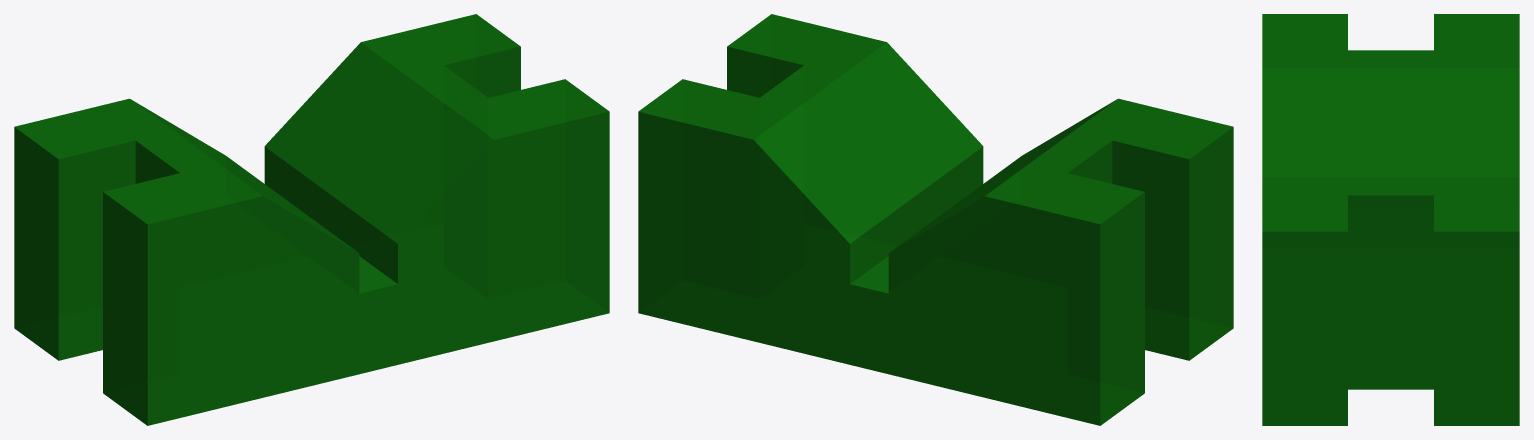
3 views of the same model, side by side, from view 1: azimuth 30°, elevation 25°; view 2: azimuth 150°, elevation 25°; view 3: azimuth 270°, elevation 25° (orthographic). The views are drawn at different scales.
Parts seen in each view (by area): view 1: SketchUp; view 2: SketchUp; view 3: SketchUp.
Part boxes in pixels (bbox=[...]): SketchUp: bbox=[14, 14, 609, 425]; SketchUp: bbox=[638, 14, 1233, 425]; SketchUp: bbox=[1262, 14, 1519, 425].
Size of the model in its own units: 2362 by 1181 by 984.
